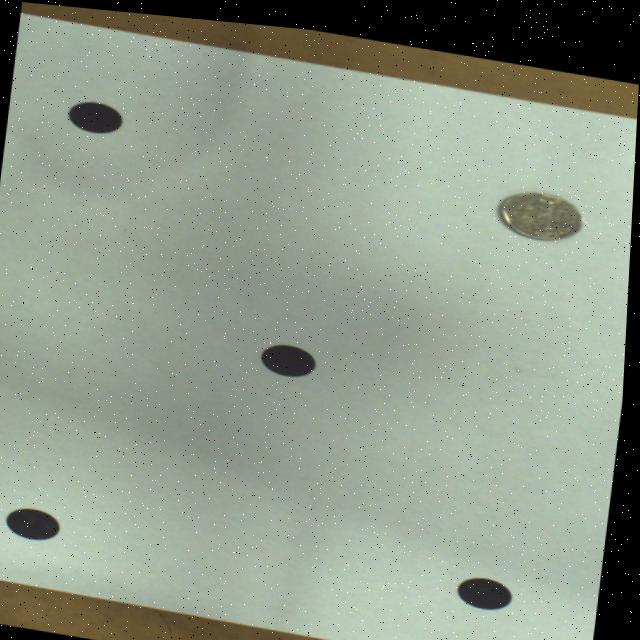space: (462, 566, 518, 598), (12, 505, 66, 538), (264, 337, 318, 370), (70, 98, 122, 130)
tail5bath: (499, 180, 582, 228)
